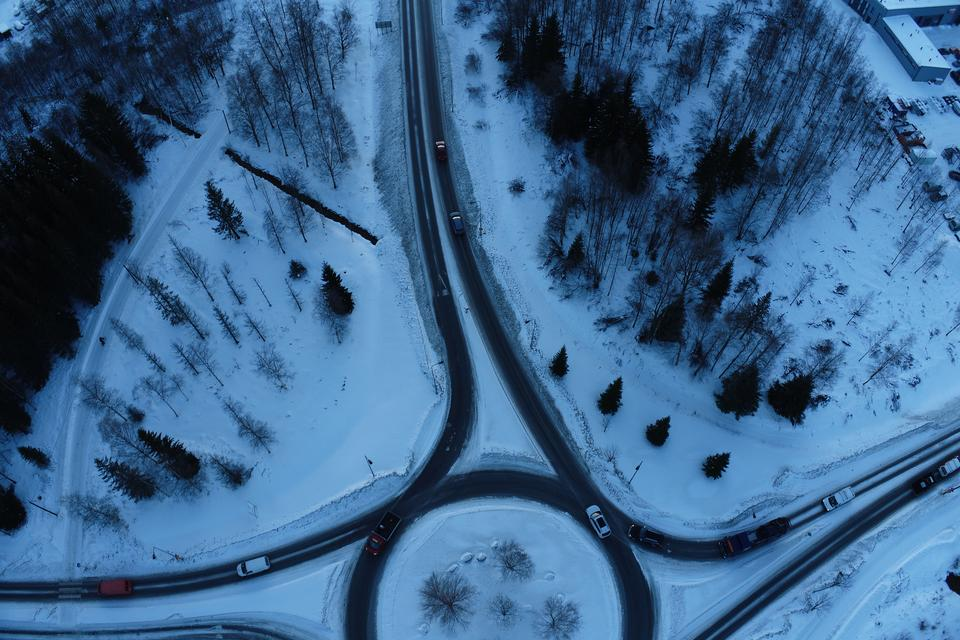intersection: (42, 561, 107, 640)
roundabout: (298, 425, 735, 640)
